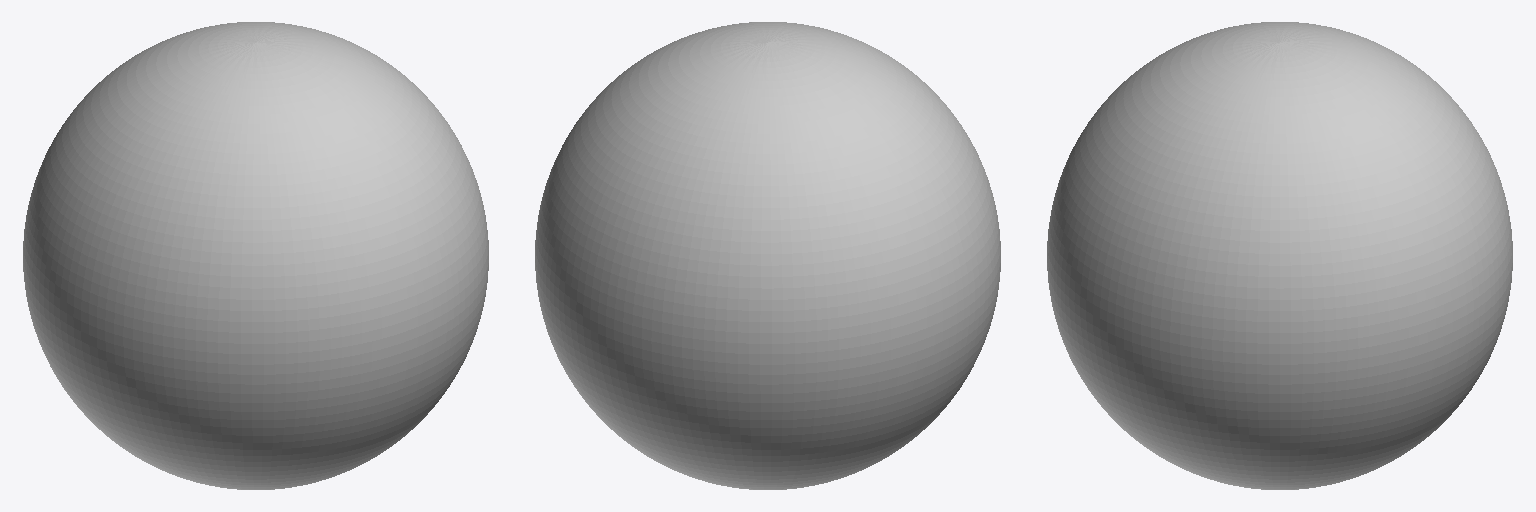
The model's file is 002-planet.obj.
The picture shows the model from 3 angles: view 1: azimuth 30°, elevation 25°; view 2: azimuth 150°, elevation 25°; view 3: azimuth 270°, elevation 25°; orthographic projection.
Visible parts, largest first — view 1: 球体.001; view 2: 球体.001; view 3: 球体.001.
Boxes of the visible parts, x1=… form: 球体.001: x1=23, y1=22, x2=488, y2=489; 球体.001: x1=535, y1=22, x2=1000, y2=489; 球体.001: x1=1047, y1=22, x2=1512, y2=489.
Bounding box in the file's own units: 15.81 × 15.98 × 15.81.